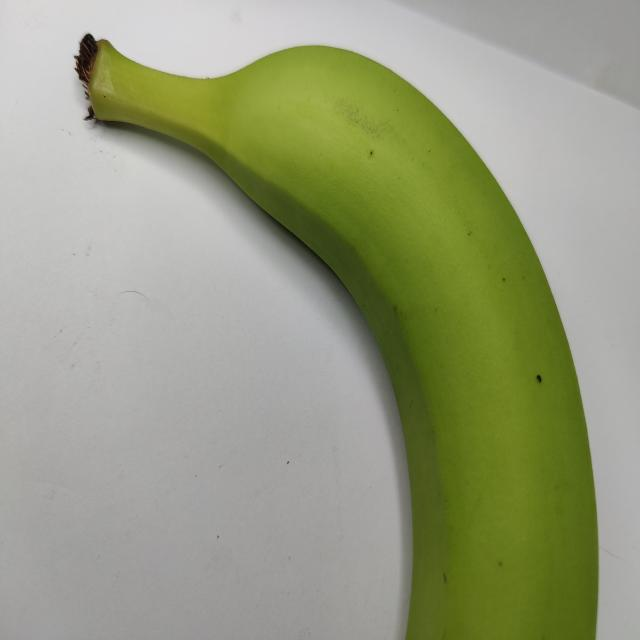raw: (69, 16, 616, 640)
